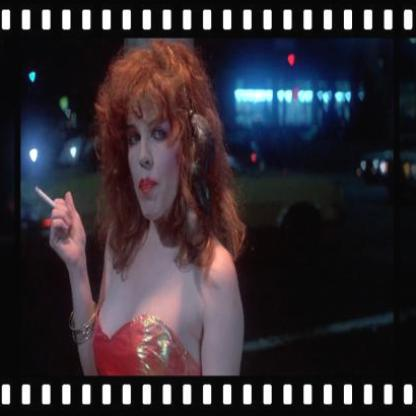cigarette: (33, 185, 55, 209)
person: (70, 41, 241, 378)
